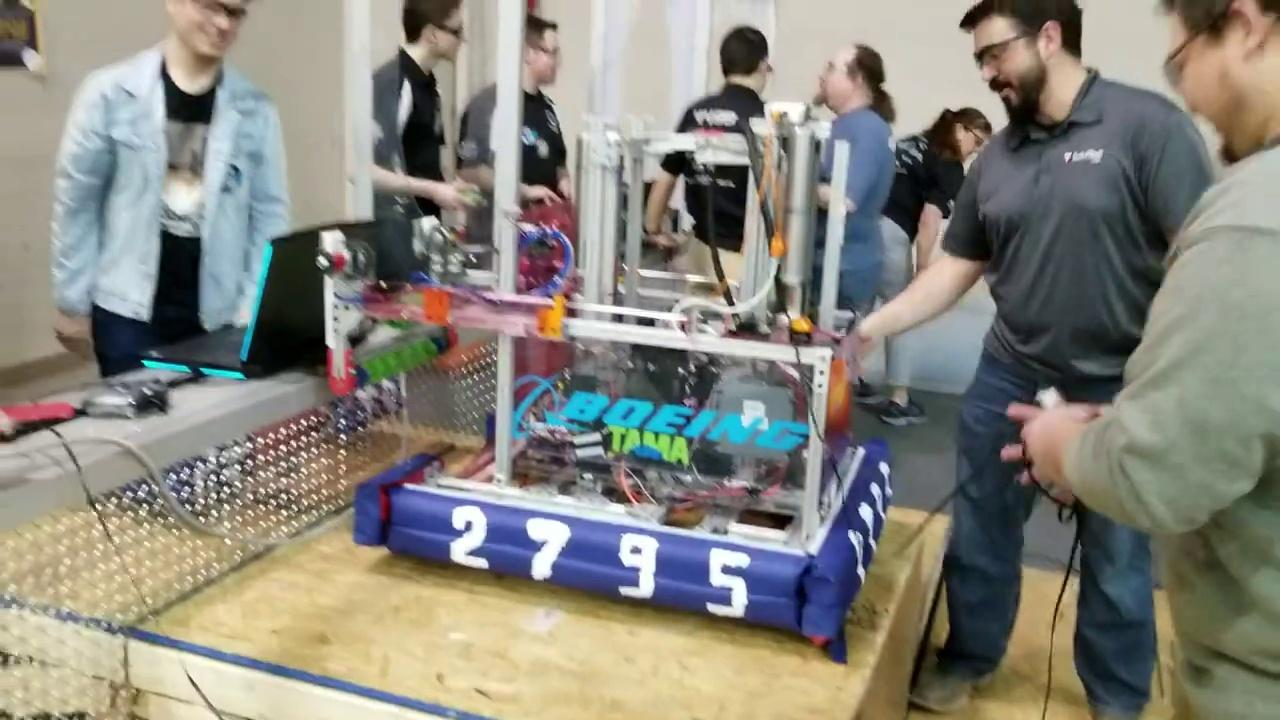robot: (310, 123, 896, 650)
